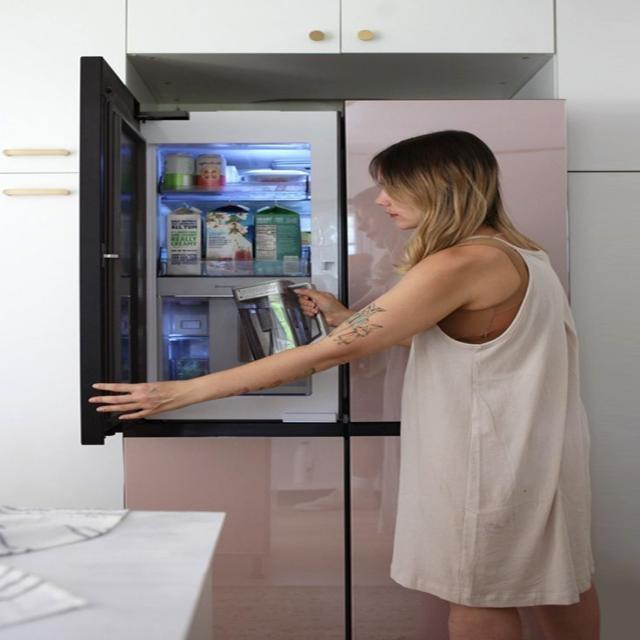obstacle: (70, 56, 569, 640), (0, 506, 226, 638)
person: (87, 129, 600, 639)
